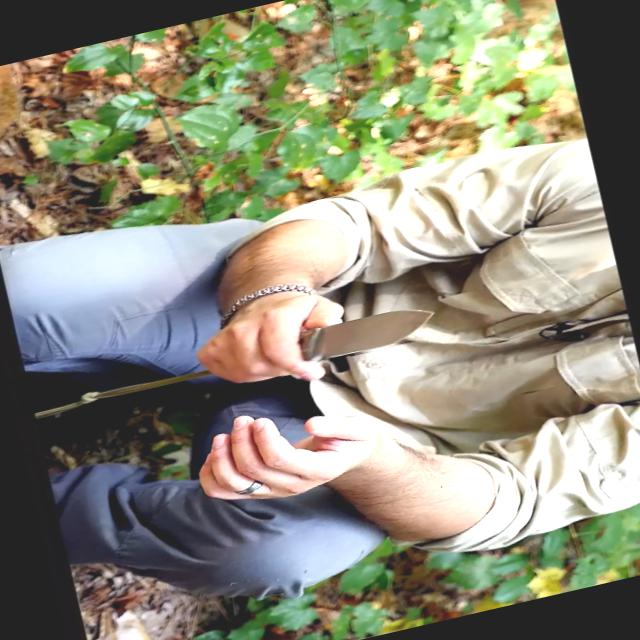knife: (240, 282, 450, 394)
